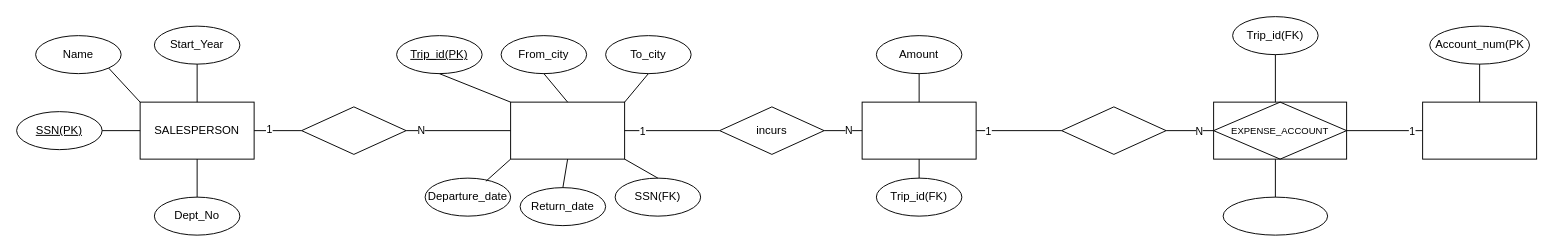
Image size: 1553x252. Some labels were removed from this diagram. The centre of each missing label's shape, as x and y in pixels:
"ACCOUNT" goes at (1479,130).
"Account_num(FK)" goes at (1275,215).
"charged_to" goes at (1113,130).
"EXPENSE" goes at (918,130).
"makes" goes at (353,130).
"TRIP" goes at (567,130).
